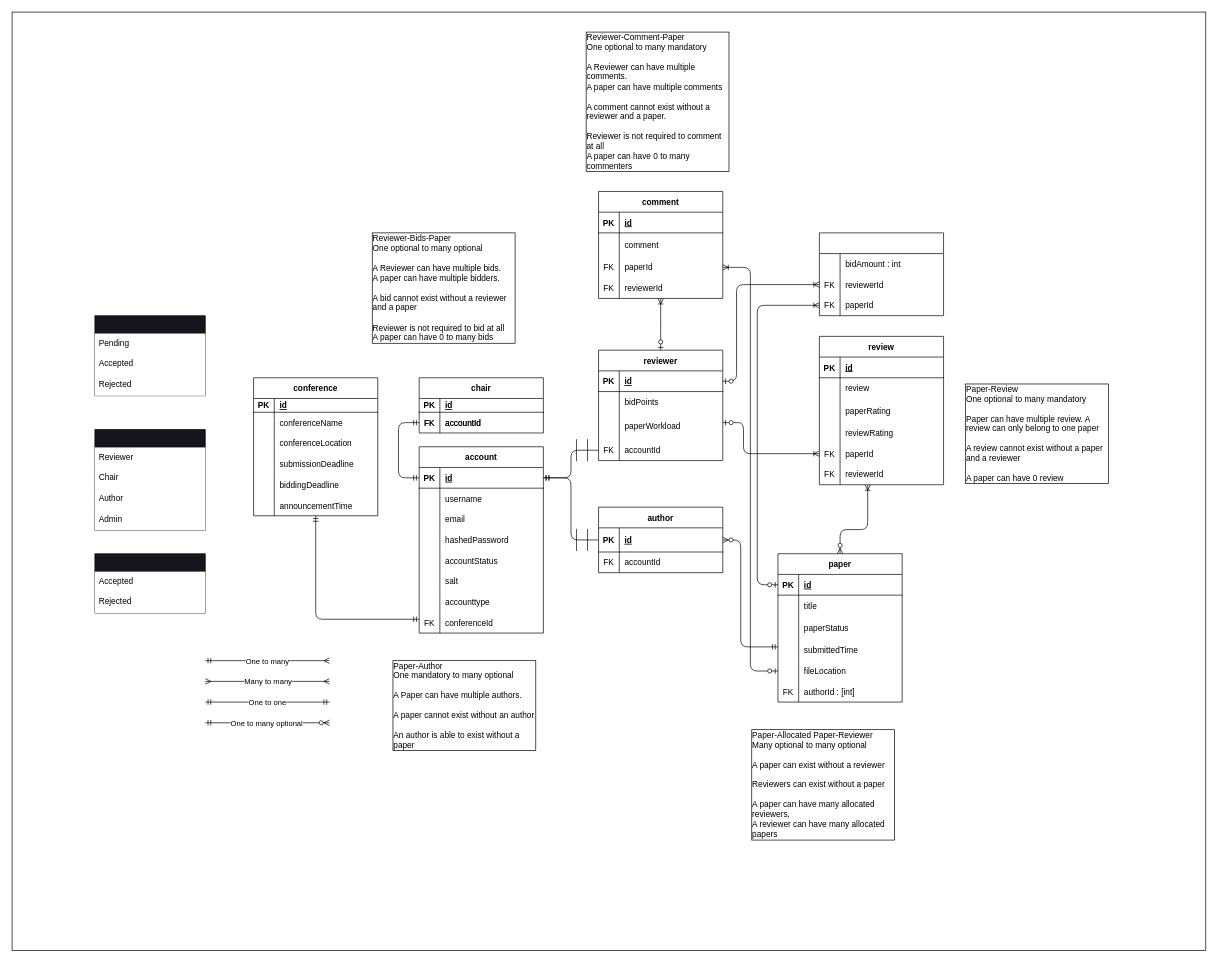
This 1218x963 diagram has some shape labels left out. The box of each missing label's shape, as (x1, y1, x2, y2) in pixels:
accountStatus : enum: (94, 315, 205, 396)
accountType : enum: (94, 429, 205, 530)
bids: (819, 232, 944, 316)
paperStatus : enum: (94, 553, 205, 613)
